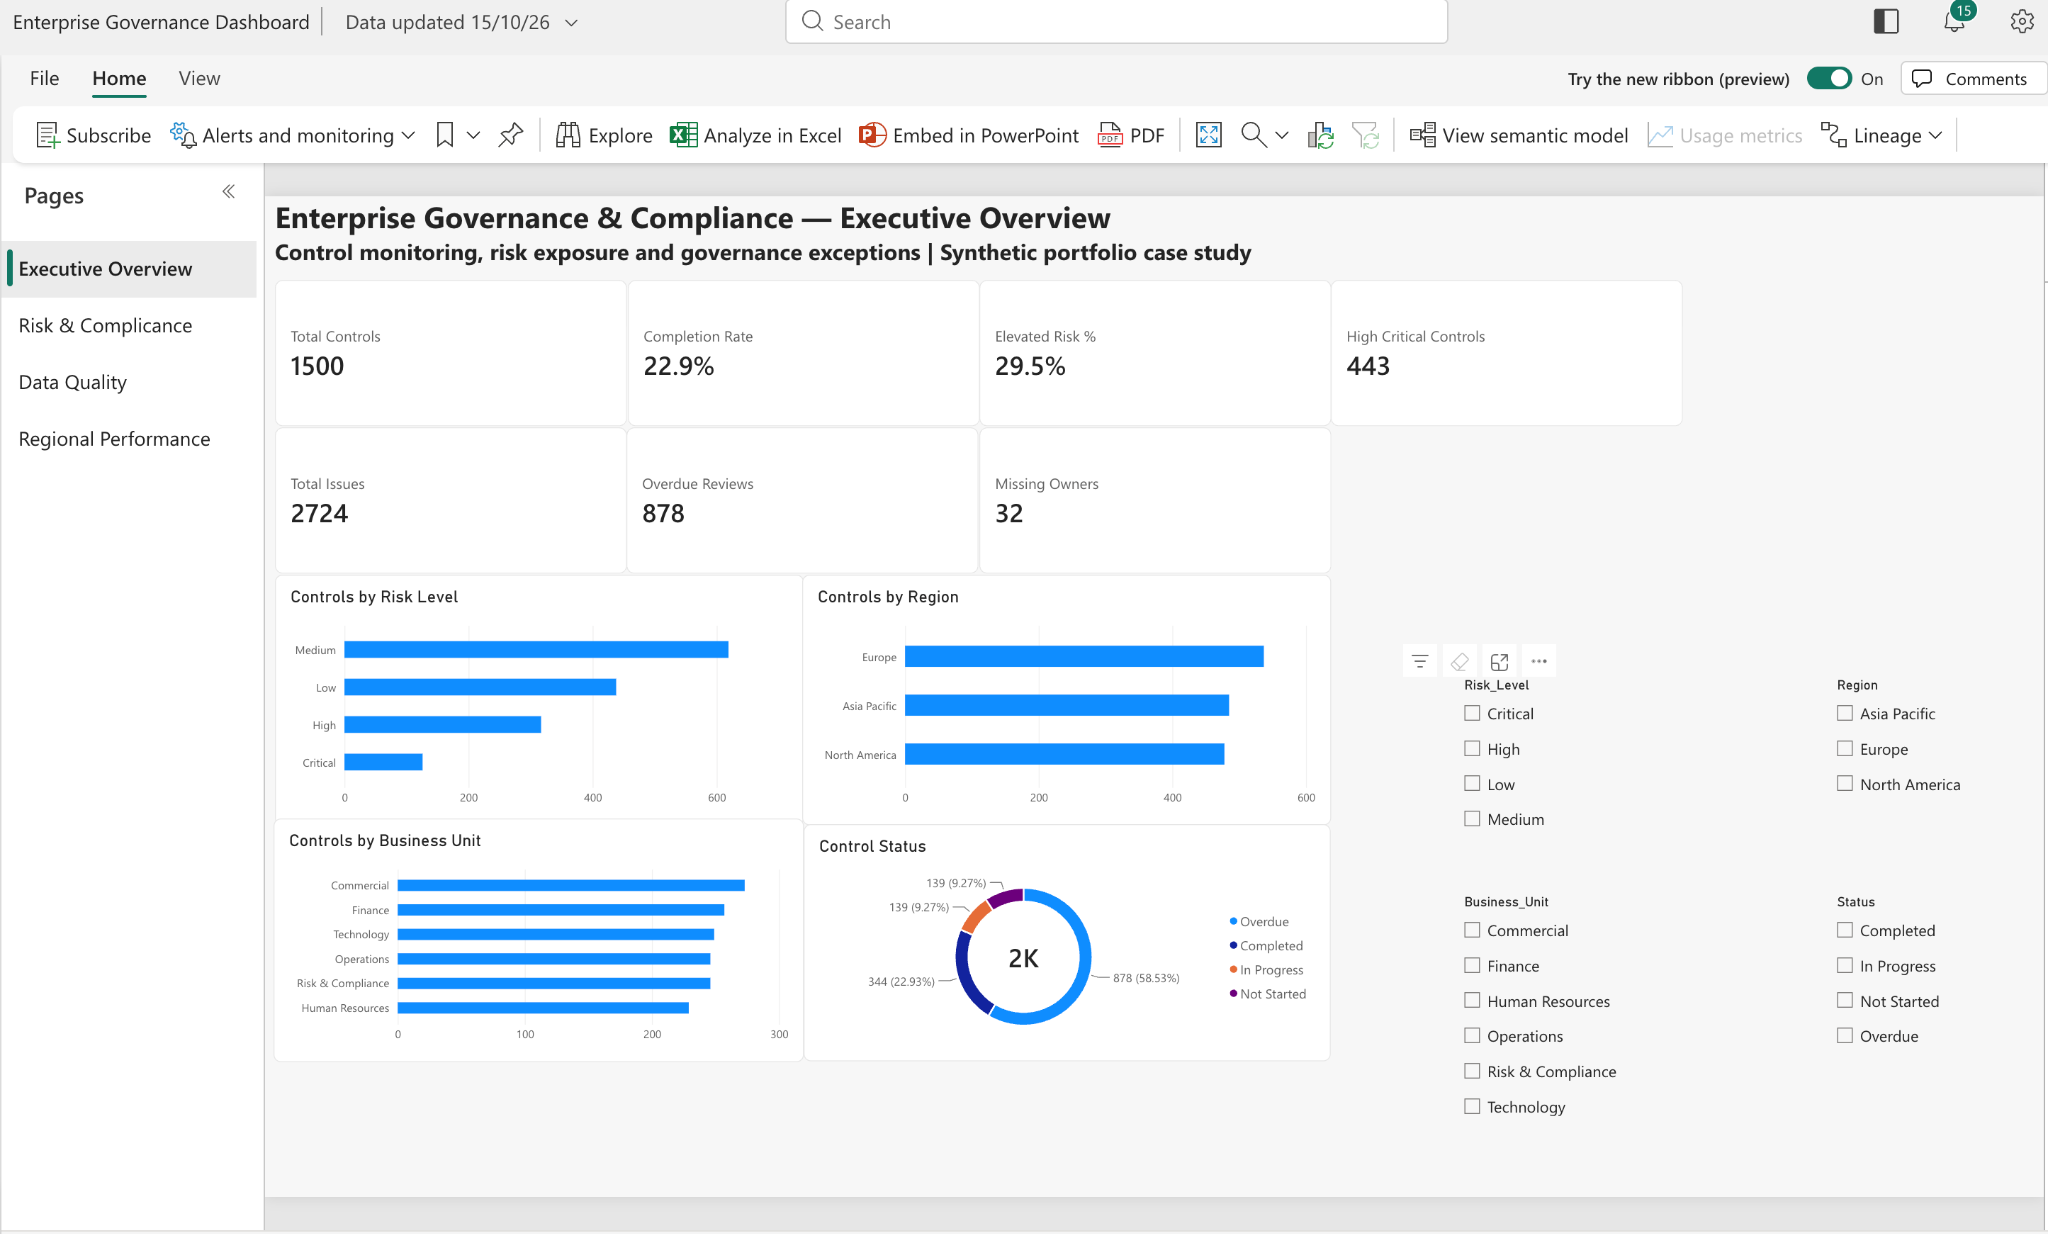

The dashboard page shown, as its layout file describes it:
{"tool":"powerbi","page":{"name":"Executive Overview","canvas":[1920,1080],"ordinal":0},"visuals":[{"type":"textbox","box":[10.7,0,1089,279.4],"z":0},{"type":"cardVisual","fields":{"Data":["PQ_Cleaned_Controls.Total Controls"]},"box":[10.7,90.8,380.8,158.4],"z":1000},{"type":"cardVisual","fields":{"Data":["PQ_Cleaned_Controls.Completion Rate"]},"box":[391.5,90.8,380.8,158.4],"z":2000},{"type":"cardVisual","fields":{"Data":["PQ_Cleaned_Controls.High Critical Controls"]},"box":[1150.9,90.8,380.8,158.4],"z":3000},{"type":"cardVisual","fields":{"Data":["PQ_Cleaned_Controls.Elevated Risk %"]},"box":[770.5,90.8,380.8,158.4],"z":4000},{"type":"cardVisual","fields":{"Data":["PQ_Cleaned_Controls.Overdue Reviews"]},"box":[389.7,249.1,380.8,158.4],"z":5000},{"type":"cardVisual","fields":{"Data":["PQ_Cleaned_Controls.Total Issues"]},"box":[10.7,249.1,380.8,158.4],"z":6000},{"type":"cardVisual","fields":{"Data":["PQ_Cleaned_Controls.Missing Owners"]},"box":[770.5,249.1,380.8,158.4],"z":7000},{"type":"barChart","title":"Controls by Risk Level","fields":{"Category":["PQ_Cleaned_Controls.Risk_Level"],"Y":["PQ_Cleaned_Controls.Total Controls"]},"box":[11.1,407.7,570.8,270.6],"z":8000},{"type":"barChart","title":"Controls by Business Unit","fields":{"Category":["PQ_Cleaned_Controls.Business_Unit"],"Y":["PQ_Cleaned_Controls.Total Controls"]},"box":[9.3,670.9,572.7,263.2],"z":9000},{"type":"barChart","title":"Controls by Region","fields":{"Category":["PQ_Cleaned_Controls.Region"],"Y":["PQ_Cleaned_Controls.Total Controls"]},"box":[580.1,407.7,570.8,270.6],"z":10000},{"type":"donutChart","title":"Control Status","fields":{"Category":["PQ_Cleaned_Controls.Status"],"Y":["PQ_Cleaned_Controls.Total Controls"]},"box":[581.9,678.3,569,255.8],"z":11000},{"type":"slicer","fields":{"Values":["PQ_Cleaned_Controls.Region"]},"box":[1688.3,520.8,170.5,157.5],"z":12000},{"type":"slicer","fields":{"Values":["PQ_Cleaned_Controls.Status"]},"box":[1688.3,754.3,150.1,179.8],"z":13000},{"type":"slicer","fields":{"Values":["PQ_Cleaned_Controls.Risk_Level"]},"box":[1286.2,520.8,109.3,179.8],"z":14000},{"type":"slicer","fields":{"Values":["PQ_Cleaned_Controls.Business_Unit"]},"box":[1286.2,754.3,192.7,268.7],"z":15000}]}

Visuals, with their boxes on the page's 1920x1080 design canvas (x1, y1, x2, y2). These are canvas units, not pixel positions in the 2048x1234 screenshot, which may show the page scaled, cropped or inside an application window:
textbox: [left=11, top=0, right=1100, bottom=279]
cardVisual - PQ_Cleaned_Controls.Total Controls: [left=11, top=91, right=392, bottom=249]
cardVisual - PQ_Cleaned_Controls.Completion Rate: [left=392, top=91, right=772, bottom=249]
cardVisual - PQ_Cleaned_Controls.High Critical Controls: [left=1151, top=91, right=1532, bottom=249]
cardVisual - PQ_Cleaned_Controls.Elevated Risk %: [left=770, top=91, right=1151, bottom=249]
cardVisual - PQ_Cleaned_Controls.Overdue Reviews: [left=390, top=249, right=770, bottom=408]
cardVisual - PQ_Cleaned_Controls.Total Issues: [left=11, top=249, right=392, bottom=408]
cardVisual - PQ_Cleaned_Controls.Missing Owners: [left=770, top=249, right=1151, bottom=408]
"Controls by Risk Level" barChart: [left=11, top=408, right=582, bottom=678]
"Controls by Business Unit" barChart: [left=9, top=671, right=582, bottom=934]
"Controls by Region" barChart: [left=580, top=408, right=1151, bottom=678]
"Control Status" donutChart: [left=582, top=678, right=1151, bottom=934]
slicer - PQ_Cleaned_Controls.Region: [left=1688, top=521, right=1859, bottom=678]
slicer - PQ_Cleaned_Controls.Status: [left=1688, top=754, right=1838, bottom=934]
slicer - PQ_Cleaned_Controls.Risk_Level: [left=1286, top=521, right=1396, bottom=701]
slicer - PQ_Cleaned_Controls.Business_Unit: [left=1286, top=754, right=1479, bottom=1023]
